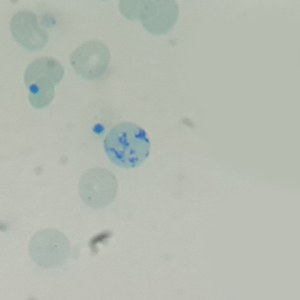aggregate reticulocyte: (101, 120, 153, 170)
erythrocyte: (26, 227, 72, 270), (8, 9, 51, 52), (21, 56, 67, 94), (25, 74, 56, 110)
punctate reticulocyte: (77, 166, 120, 211), (69, 39, 113, 81)
